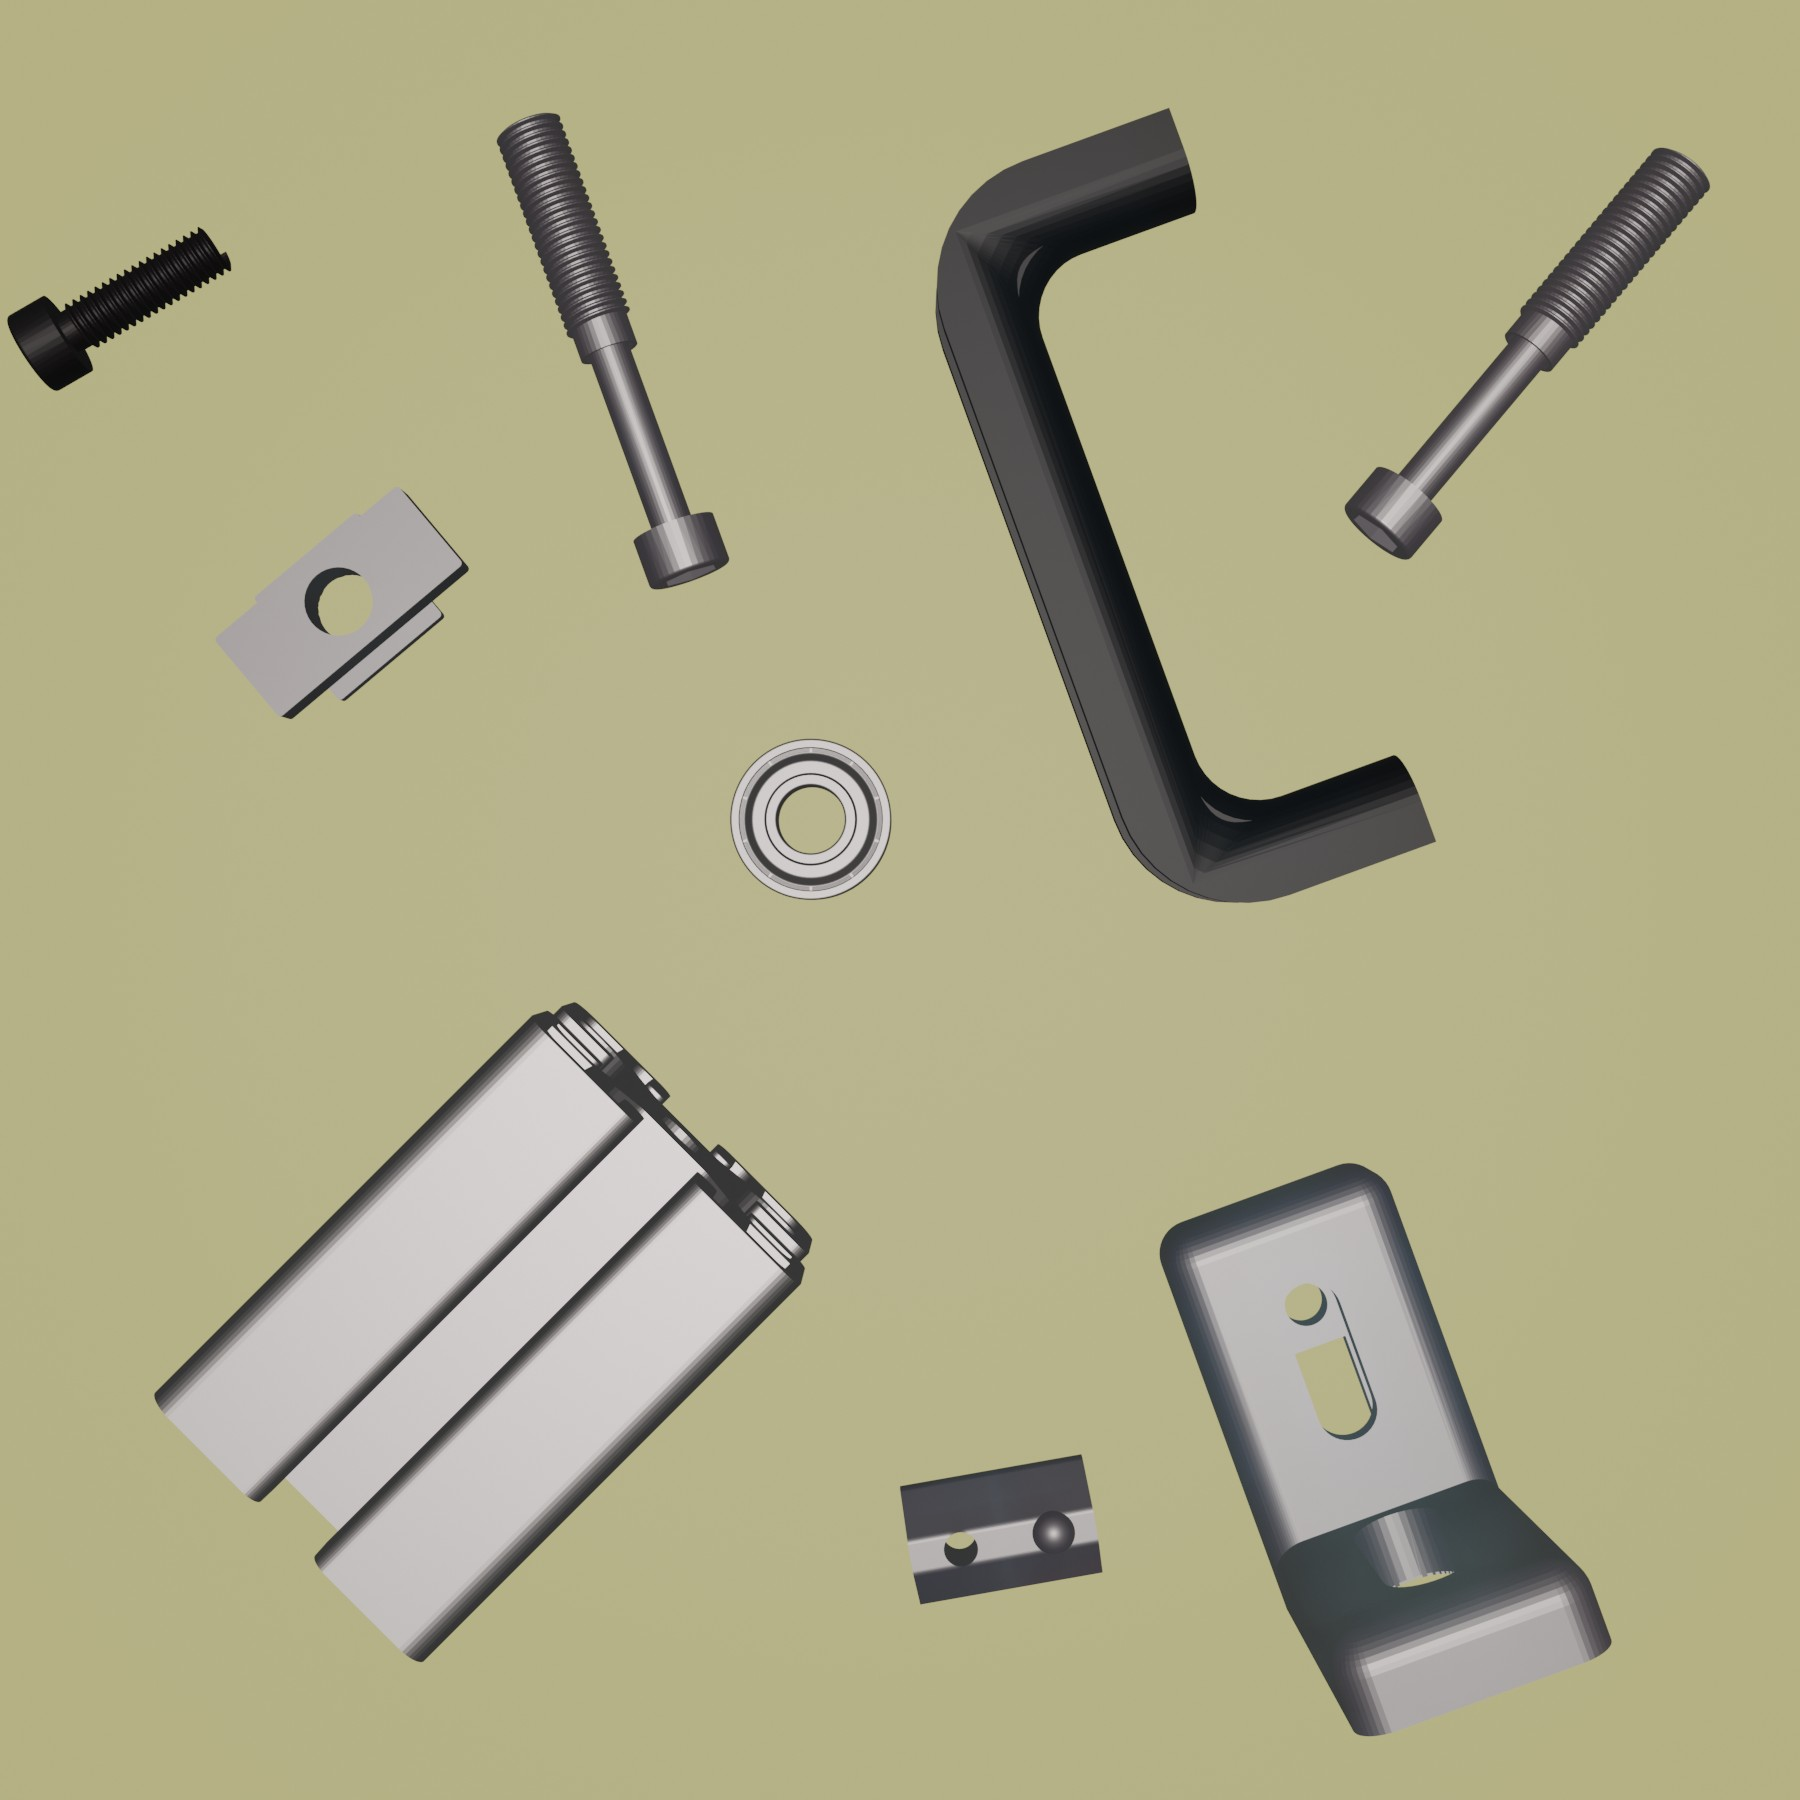Aluminium Extension: (153, 1001, 816, 1665)
Ball Bearing: (727, 735, 893, 903)
Multiwinkel: (1159, 1159, 1615, 1739)
Pull Handle: (931, 107, 1437, 905)
Shoulder Socket Head Cap Screw: (1340, 145, 1713, 564), (496, 109, 729, 592)
Socket Head Cap Screw: (7, 223, 236, 392)
T Nut Square: (213, 481, 471, 724)
T Spring Nut: (897, 1451, 1108, 1609)
